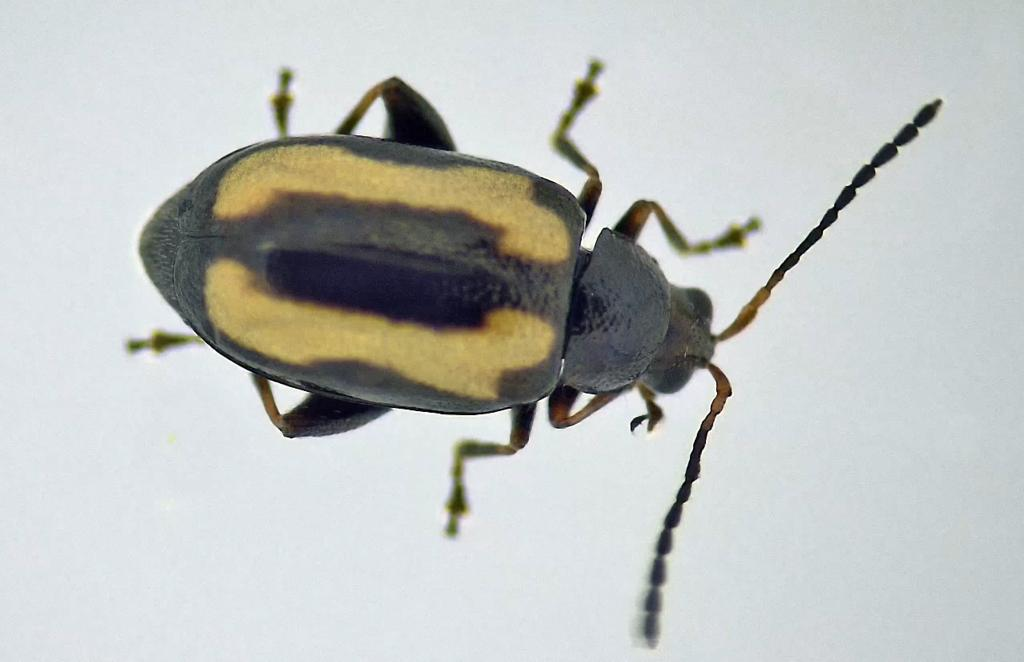flea_beetle: (46, 0, 1004, 662)
